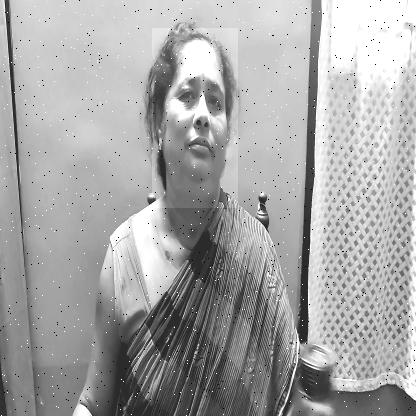Normal: (152, 28, 238, 208)
